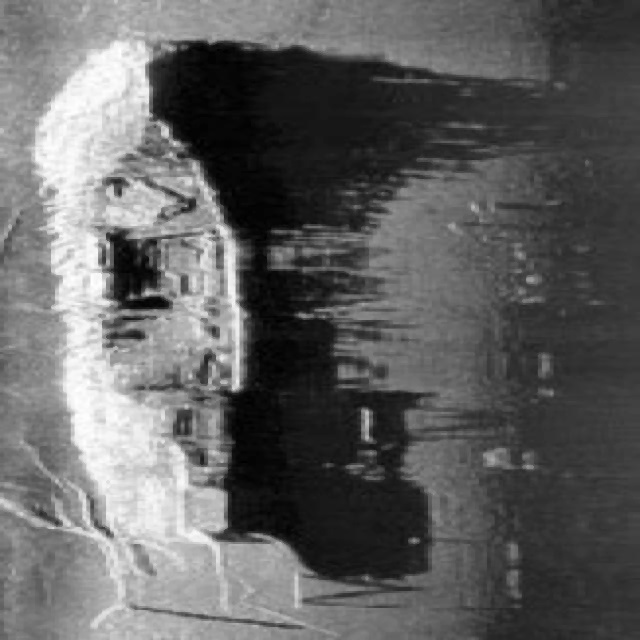Ship: (16, 26, 317, 630)
